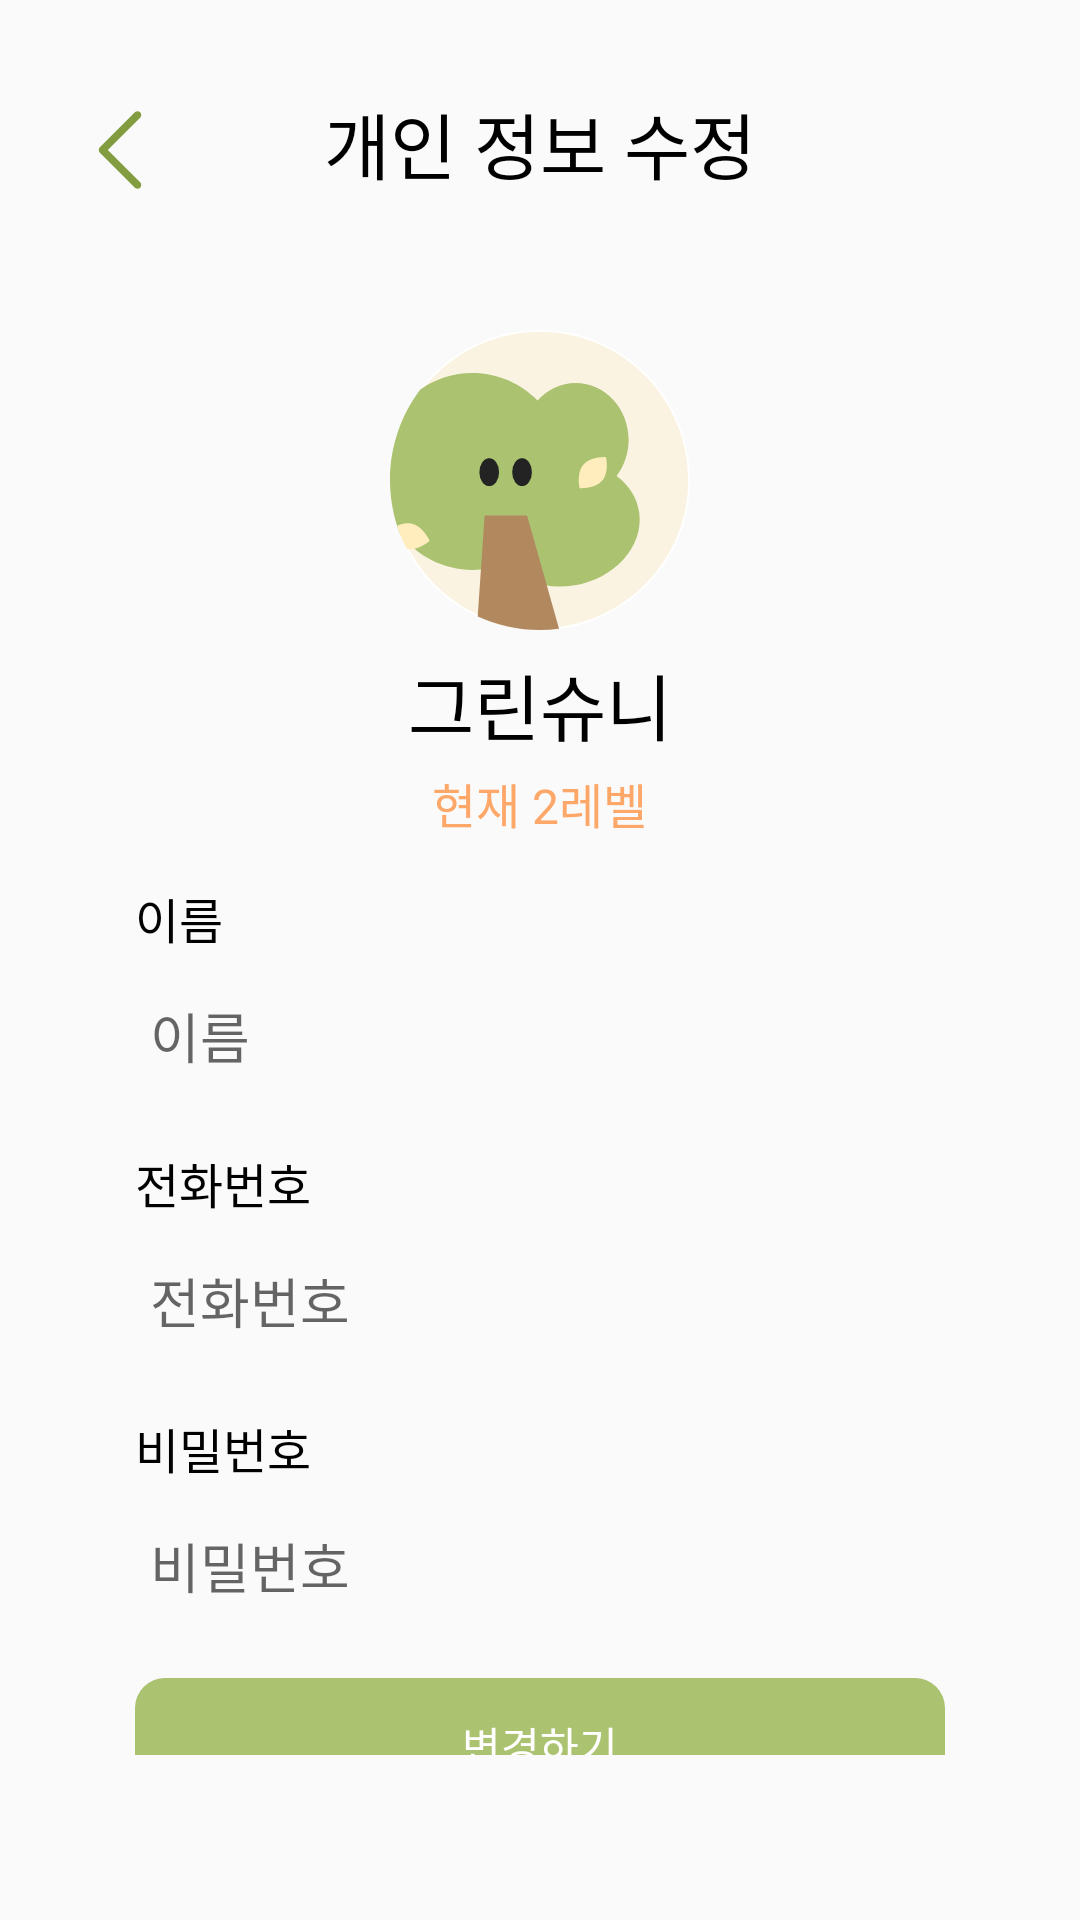

Icons on this 1080x1920 Android screen, each with its box as {"left": x1, "top": y1, "right": x2, "bottom": y2}:
back arrow: {"left": 98, "top": 111, "right": 142, "bottom": 189}
